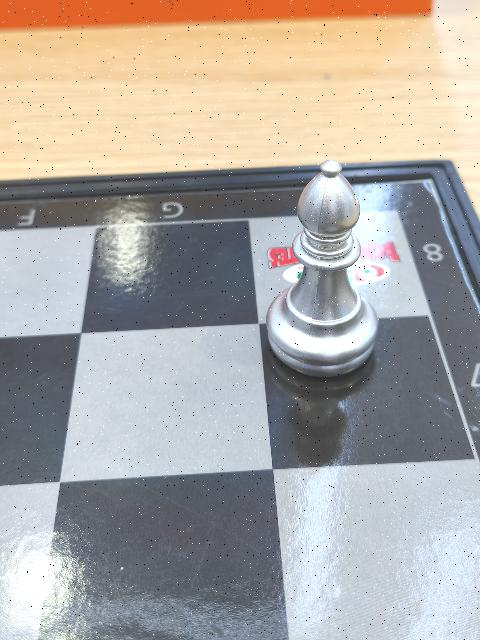white_bishop: (263, 159, 382, 377)
